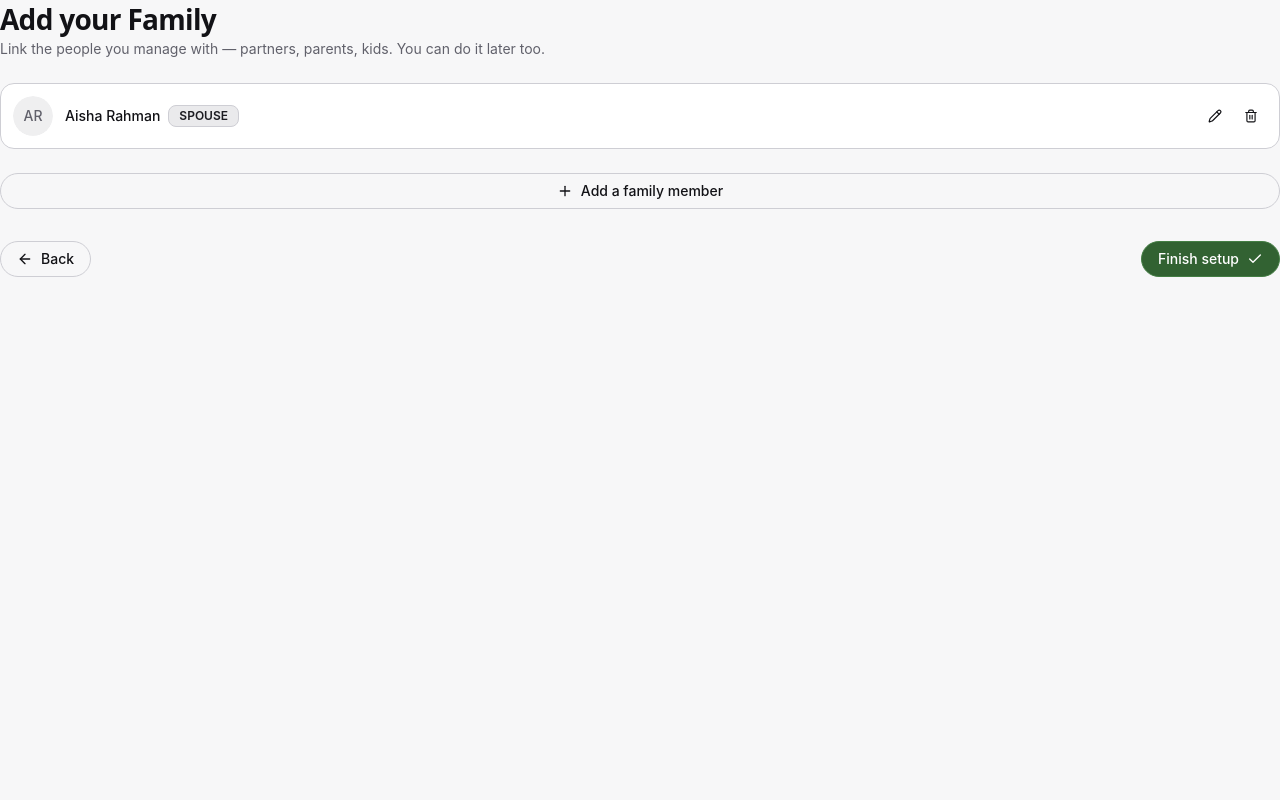
Test: OnboardStepFamily — seeded list › removes a member via the confirm dialog
The image size is (1280, 800).
Step 1. Click the button named "Remove Aisha Rahman" → (1251, 116), box [1235,100,1267,132]
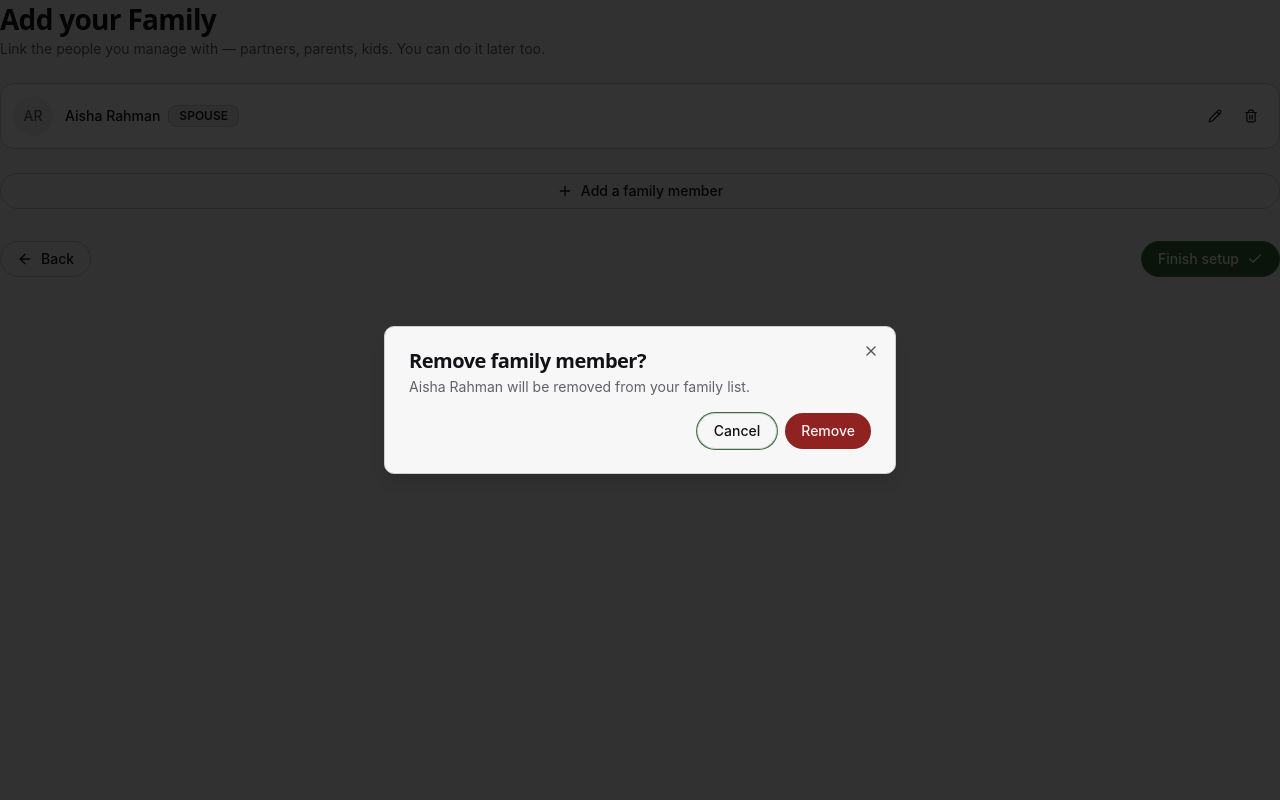
expect the heading "Remove family member?" is shown: met, box [409,347,646,374]
Step 2. Click the button "Remove" → (828, 431), box [785,413,871,449]
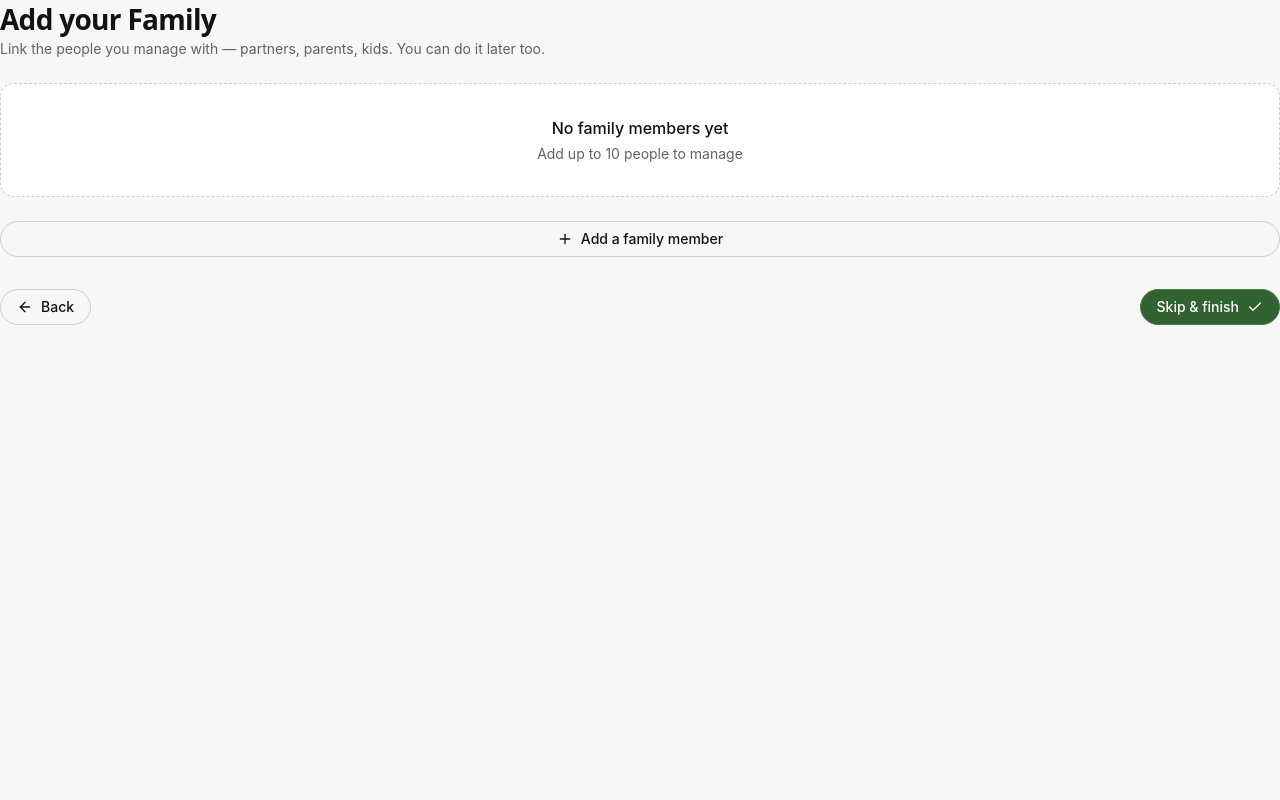
expect the text "No family members yet" is shown: met, box [552,116,728,140]
